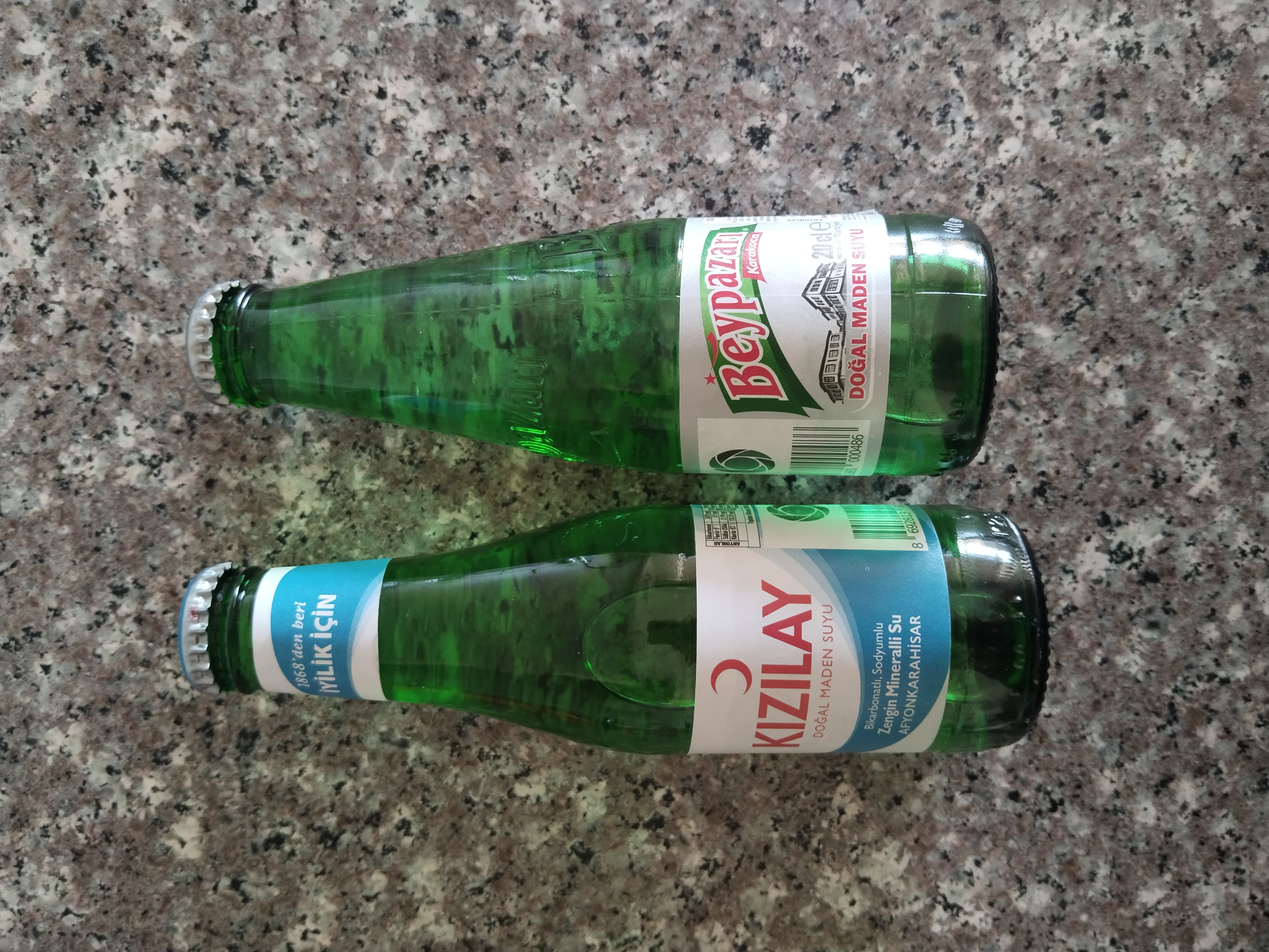beypazari_maden_suyu: (191, 211, 998, 473)
kizilay_maden_suyu: (181, 507, 1045, 752)
